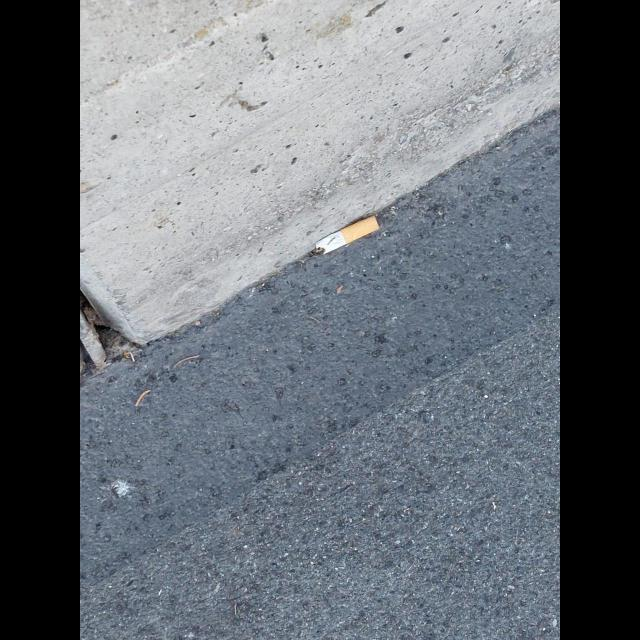cigarette: (316, 215, 380, 255)
